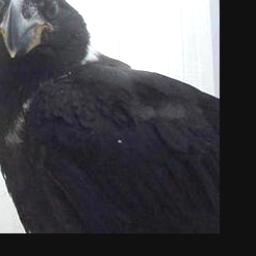Crow: (0, 0, 219, 232)
